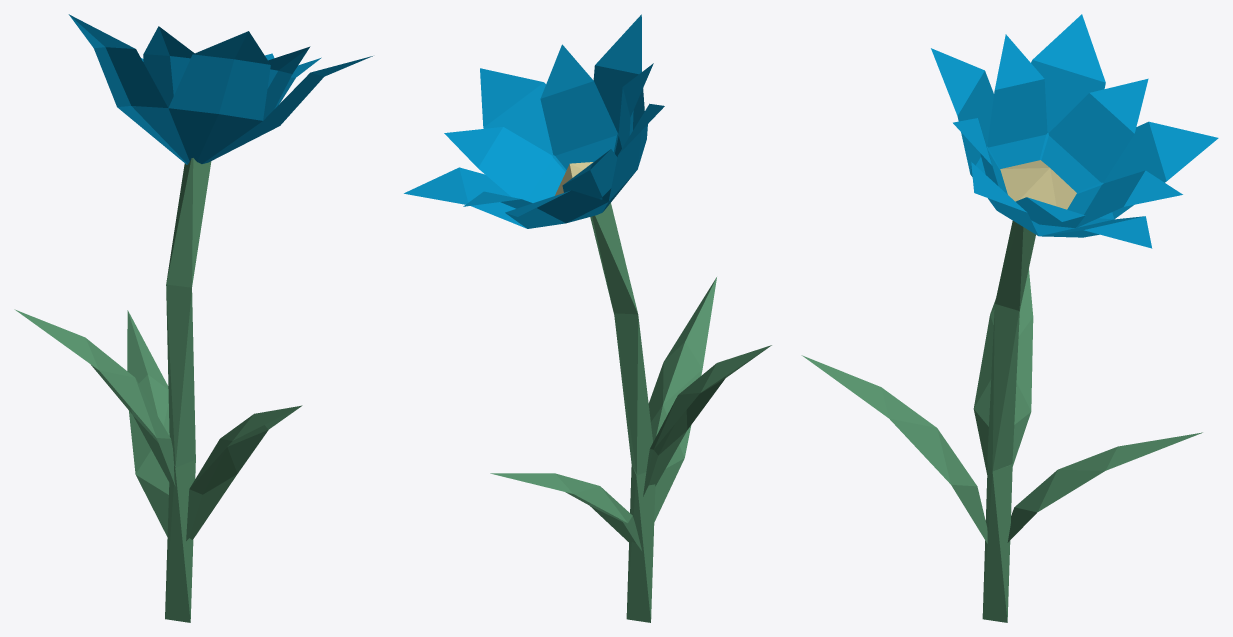
File: Prop_Flower_Lily_Blue.glb
3 views of the same model, side by side, from view 1: azimuth 30°, elevation 25°; view 2: azimuth 150°, elevation 25°; view 3: azimuth 270°, elevation 25° (orthographic). The views are drawn at different scales.
Visible parts, largest first — view 1: Prop_Flower_Lily_Blue_Merged; view 2: Prop_Flower_Lily_Blue_Merged; view 3: Prop_Flower_Lily_Blue_Merged.
Part boxes in pixels (x1,y1,x2,y2): Prop_Flower_Lily_Blue_Merged: (14,14,372,622); Prop_Flower_Lily_Blue_Merged: (404,14,771,622); Prop_Flower_Lily_Blue_Merged: (801,14,1218,622).
Size of the model in its own units: 0.3218 by 0.5545 by 0.3582.
